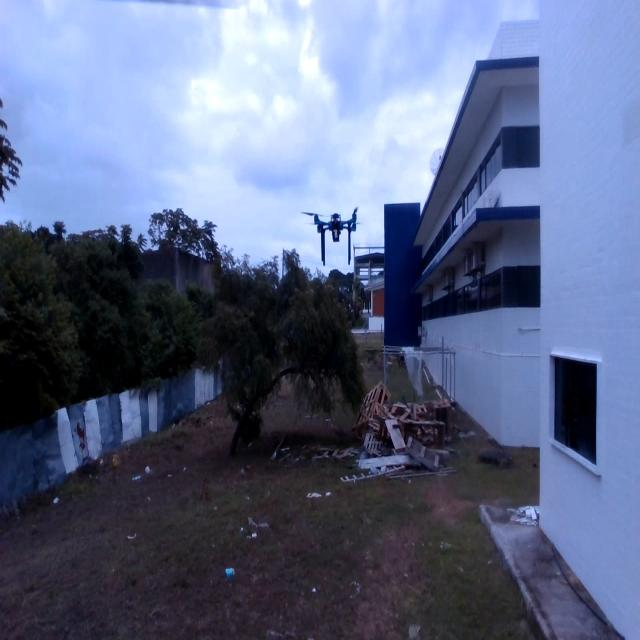-uav-: (295, 193, 371, 271)
